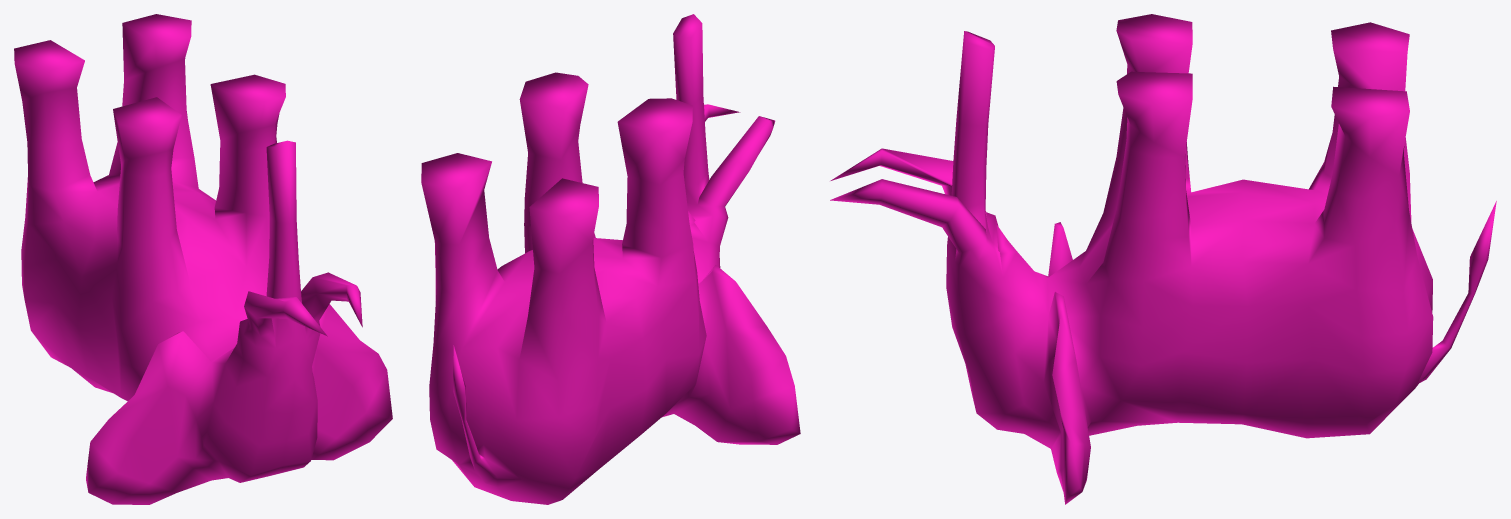
Rendered from elephant1_5.dae.
The picture shows the model from 3 angles, left to right: view 1: azimuth 30°, elevation 25°; view 2: azimuth 150°, elevation 25°; view 3: azimuth 270°, elevation 25°; orthographic projection. The views are drawn at different scales.
Parts seen in each view (by area): view 1: elephant1_019; view 2: elephant1_019; view 3: elephant1_019.
Boxes of the visible parts, x1=… form: elephant1_019: x1=14, y1=14, x2=392, y2=504; elephant1_019: x1=421, y1=14, x2=800, y2=504; elephant1_019: x1=830, y1=14, x2=1496, y2=504.
Size of the model in its own units: 0.2121 by 0.3642 by 0.2496.
